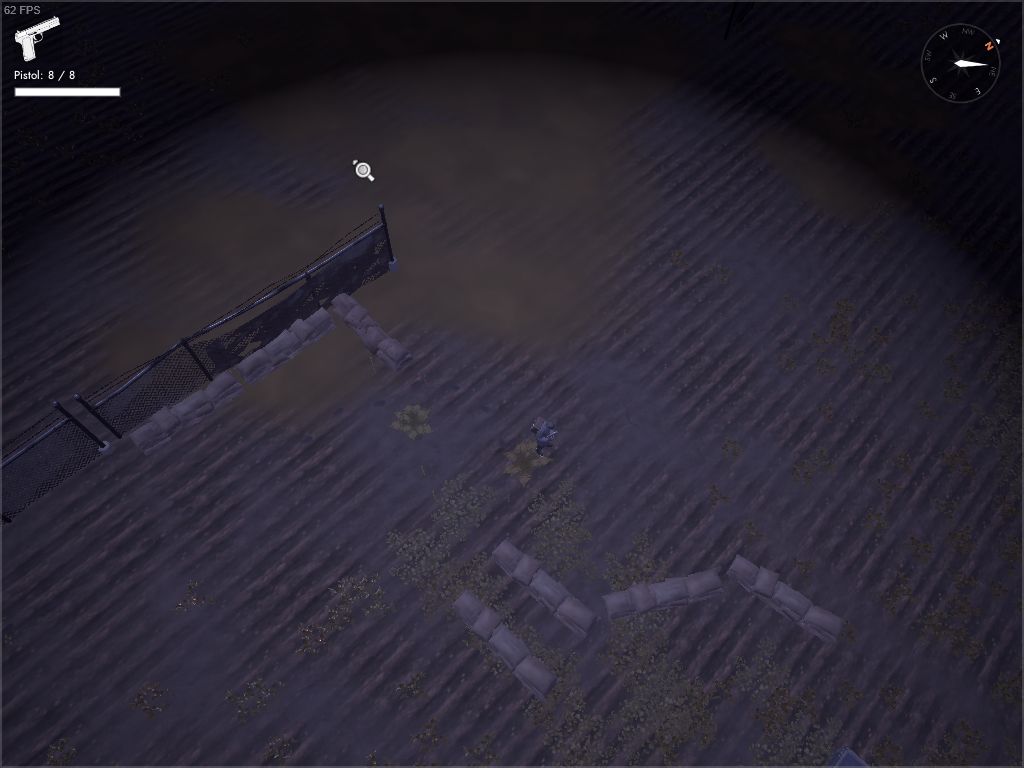fence: (71, 197, 405, 442), (1, 399, 112, 529)
player: (527, 413, 560, 456)
sandbag: (446, 585, 563, 704), (489, 536, 603, 643), (125, 364, 250, 459), (727, 552, 846, 651), (227, 303, 346, 388), (597, 565, 727, 626), (329, 287, 415, 375)
storage_box: (825, 739, 873, 768)
